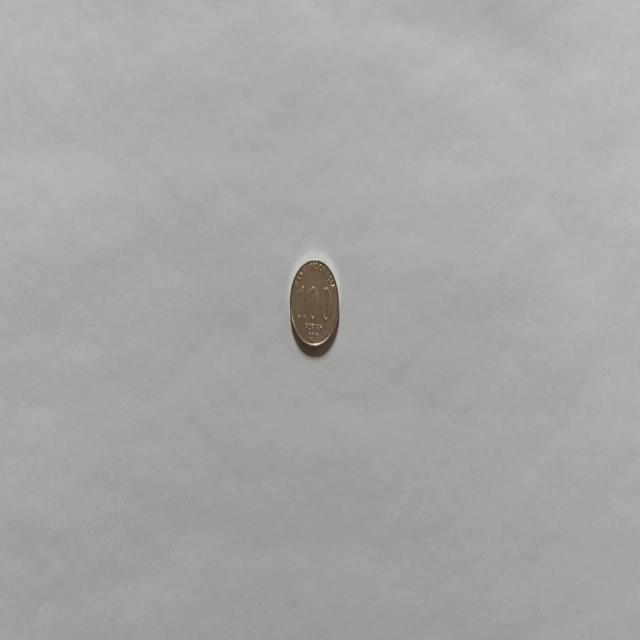seratus rupiah: (288, 257, 340, 353)
